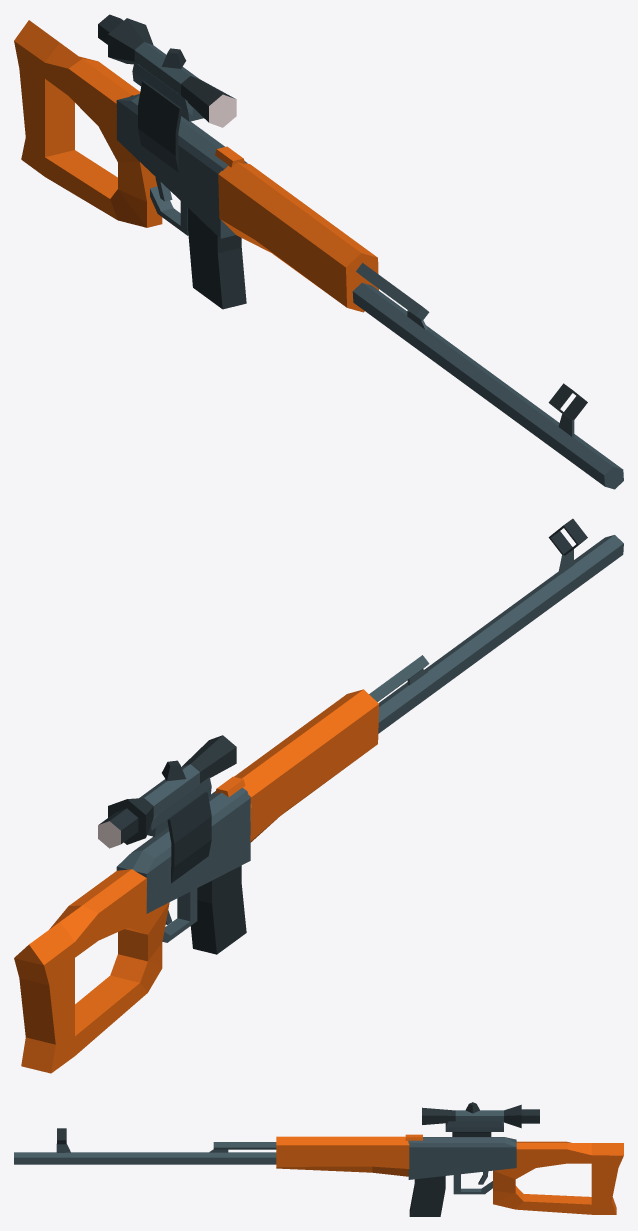
The model's file is Sniper Rifle.fbx.
3 renders of one model, top to bottom at view 1: azimuth 30°, elevation 25°; view 2: azimuth 150°, elevation 25°; view 3: azimuth 270°, elevation 25°, orthographic. The views are drawn at different scales.
Visible parts, largest first — view 1: Cube.001, Cylinder, Cylinder.001, Korobka, Cylinder.005, Cube, Plane.003, Cube.004, Cylinder.002, Plane.002, Cylinder.004; view 2: Cube.001, Cylinder, Cylinder.001, Korobka, Cylinder.005, Cube, Plane.003, Plane.002, Cube.004, Cylinder.002; view 3: Cube.001, Cylinder, Korobka, Cylinder.001, Cylinder.005, Cube, Cube.004, Cylinder.002, Plane.002, Plane.003.
Part boxes in pixels (<box>): Cube.001: <box>14,20,162,227</box>; Cylinder: <box>218,162,378,312</box>; Cylinder.001: <box>352,283,623,489</box>; Korobka: <box>116,94,247,238</box>; Cylinder.005: <box>98,14,236,127</box>; Cube: <box>188,208,246,309</box>; Plane.003: <box>138,81,182,172</box>; Cube.004: <box>132,62,203,121</box>; Cylinder.002: <box>356,263,429,320</box>; Plane.002: <box>150,186,188,235</box>; Cylinder.004: <box>548,383,587,420</box>; Cube.001: <box>14,869,169,1073</box>; Cylinder: <box>234,689,378,842</box>; Cylinder.001: <box>378,535,623,733</box>; Korobka: <box>116,787,250,913</box>; Cylinder.005: <box>98,735,236,848</box>; Cube: <box>190,865,246,954</box>; Plane.003: <box>167,792,211,883</box>; Plane.002: <box>162,888,197,942</box>; Cube.004: <box>147,777,211,836</box>; Cylinder.002: <box>369,655,429,701</box>; Cube.001: <box>493,1141,623,1214</box>; Cylinder: <box>276,1136,409,1176</box>; Korobka: <box>408,1137,516,1179</box>; Cylinder.001: <box>14,1152,276,1164</box>; Cylinder.005: <box>422,1104,539,1128</box>; Cube: <box>409,1176,445,1216</box>; Cube.004: <box>445,1121,503,1131</box>; Cylinder.002: <box>213,1142,276,1149</box>; Plane.002: <box>453,1174,492,1194</box>; Plane.003: <box>452,1132,491,1136</box>.
Bounding box in the file's own units: 0.3166 × 1.68 × 8.45.
